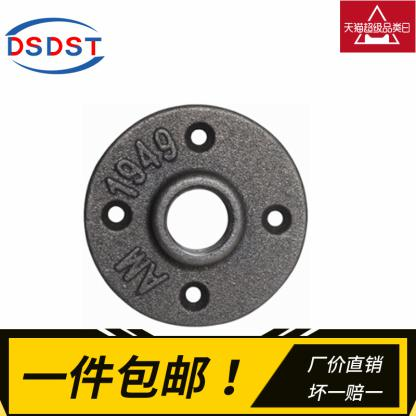FOD: (81, 101, 311, 328)
